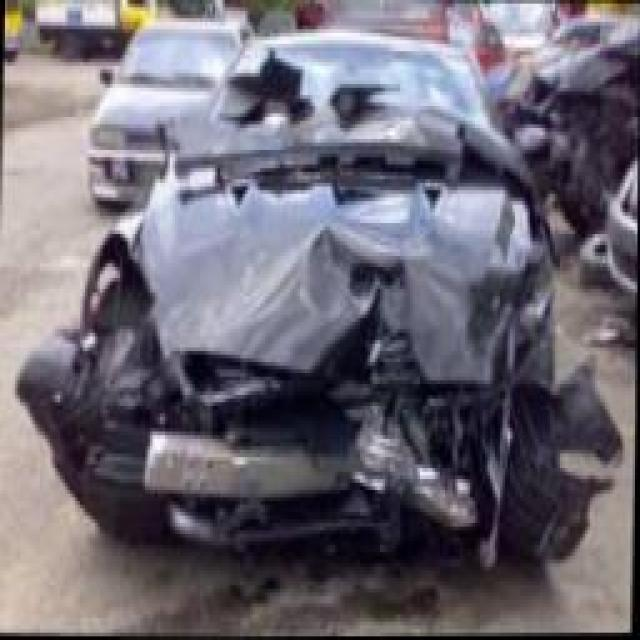Bonnet: (50, 410, 589, 590), (155, 161, 504, 376)
Light: (85, 252, 156, 363), (505, 329, 548, 410)
